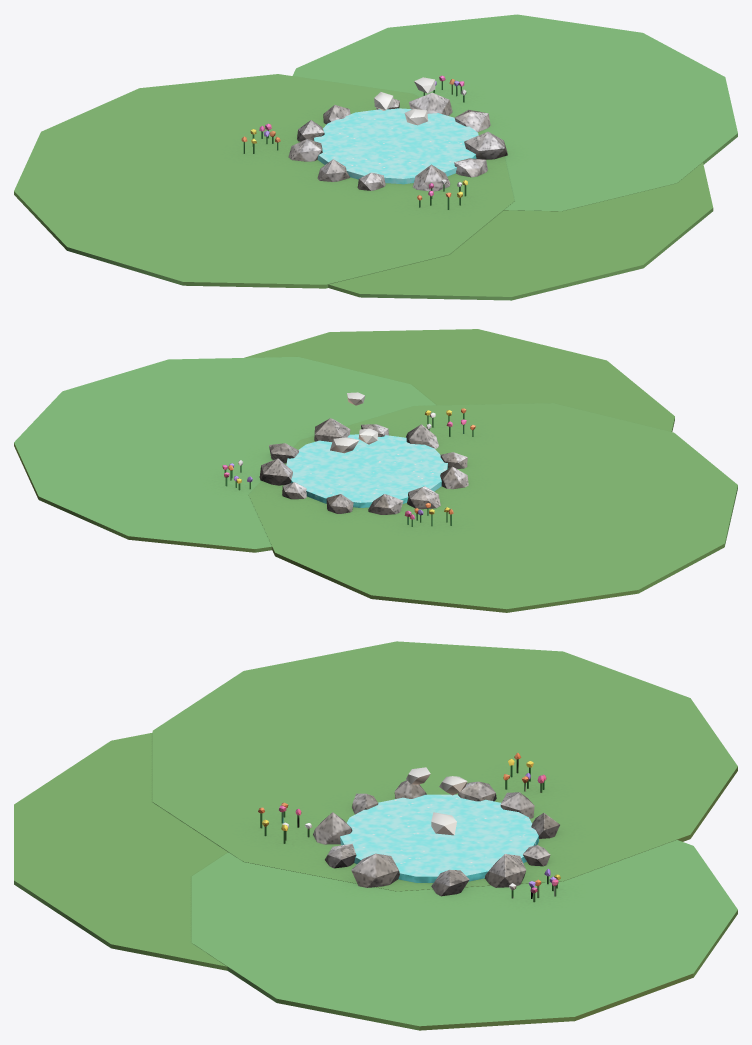
The model's file is area_spring_0_0.fbx.
The picture shows the model from 3 angles, top to bottom: view 1: azimuth 30°, elevation 25°; view 2: azimuth 150°, elevation 25°; view 3: azimuth 270°, elevation 25°; orthographic projection. The views are drawn at different scales.
Parts seen in each view (by area): view 1: area_spring_0_0_body; view 2: area_spring_0_0_body; view 3: area_spring_0_0_body.
Part boxes in pixels (bbox=[...]): area_spring_0_0_body: bbox=[14, 14, 737, 300]; area_spring_0_0_body: bbox=[14, 329, 737, 612]; area_spring_0_0_body: bbox=[14, 641, 737, 1030].
Size of the model in its own units: 11426 by 1399 by 9088.
Materials: 1 (1 with a texture image).
